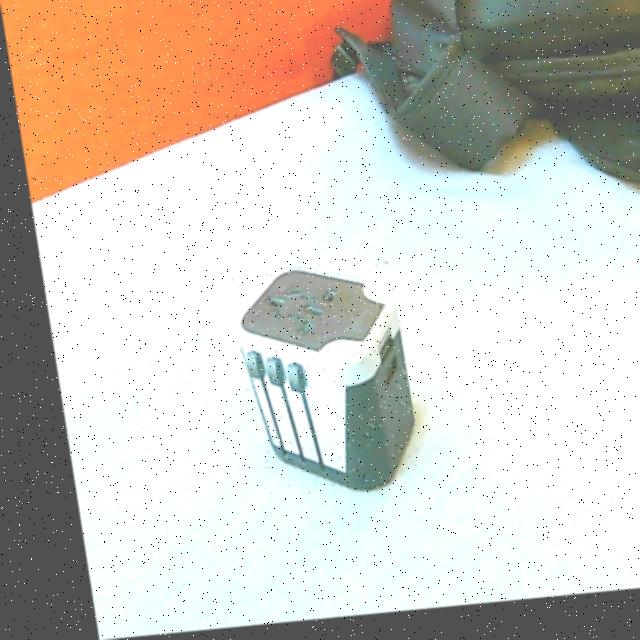adapter: (216, 263, 409, 504)
